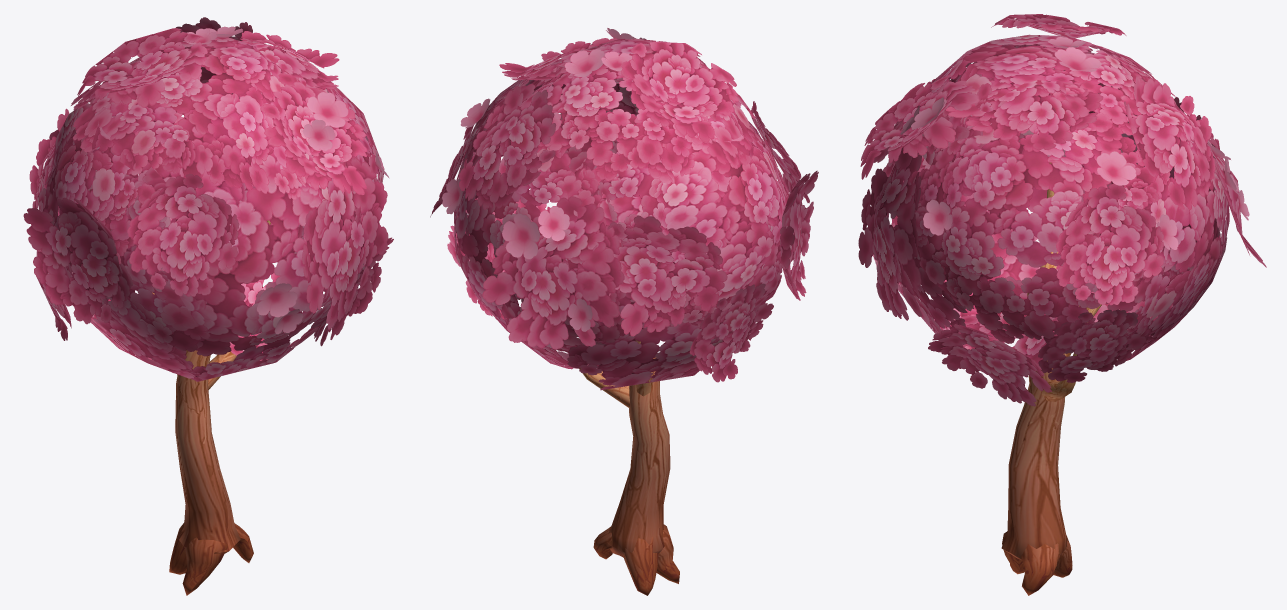
File: SE_Tree_01.fbx
3 views of the same model, side by side, from view 1: azimuth 30°, elevation 25°; view 2: azimuth 150°, elevation 25°; view 3: azimuth 270°, elevation 25° (orthographic). The views are drawn at different scales.
Parts seen in each view (by area): view 1: SE_Tree_01; view 2: SE_Tree_01; view 3: SE_Tree_01.
Part boxes in pixels (x1,y1,x2,y2): SE_Tree_01: (23, 17, 393, 595); SE_Tree_01: (430, 28, 818, 595); SE_Tree_01: (858, 14, 1266, 595).
Bounding box in the file's own units: 4.16 × 6.09 × 4.15.
